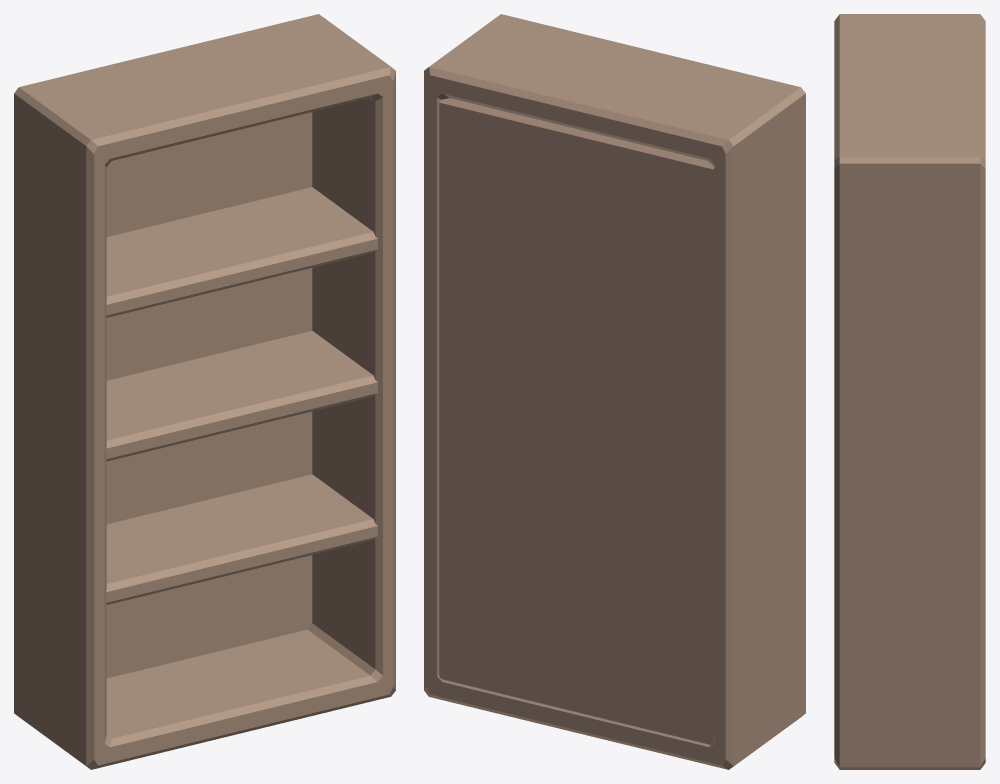
File: Cupboard_2.fbx
The picture shows the model from 3 angles, left to right: view 1: azimuth 30°, elevation 25°; view 2: azimuth 150°, elevation 25°; view 3: azimuth 270°, elevation 25°; orthographic projection. The views are drawn at different scales.
Parts seen in each view (by area): view 1: Cupboard_2; view 2: Cupboard_2; view 3: Cupboard_2.
Boxes of the visible parts, x1,y1,x2,y2 form: Cupboard_2: [14, 14, 395, 769]; Cupboard_2: [424, 14, 805, 769]; Cupboard_2: [834, 14, 985, 769].
Bounding box in the file's own units: 121 × 52.44 × 234.
